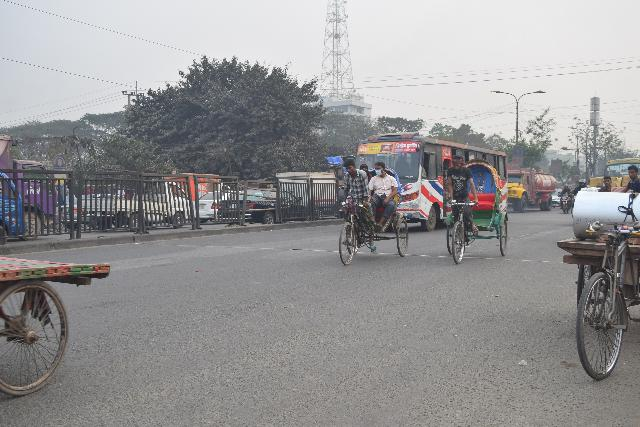bus: (316, 134, 515, 221)
car: (216, 186, 317, 222)
motorcycle: (560, 184, 573, 218)
truck: (505, 158, 558, 219)
